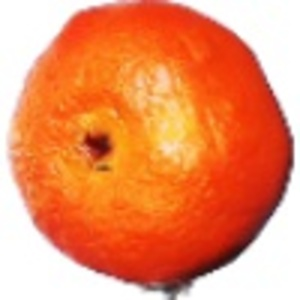tangerina: (5, 1, 299, 300)
